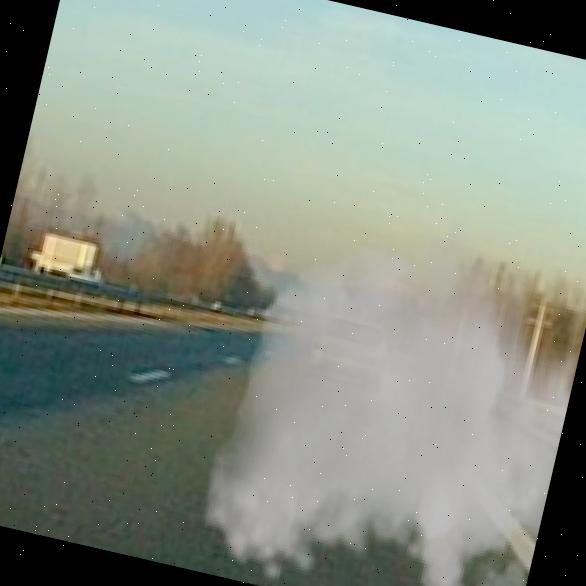smoke: (187, 167, 586, 586)
